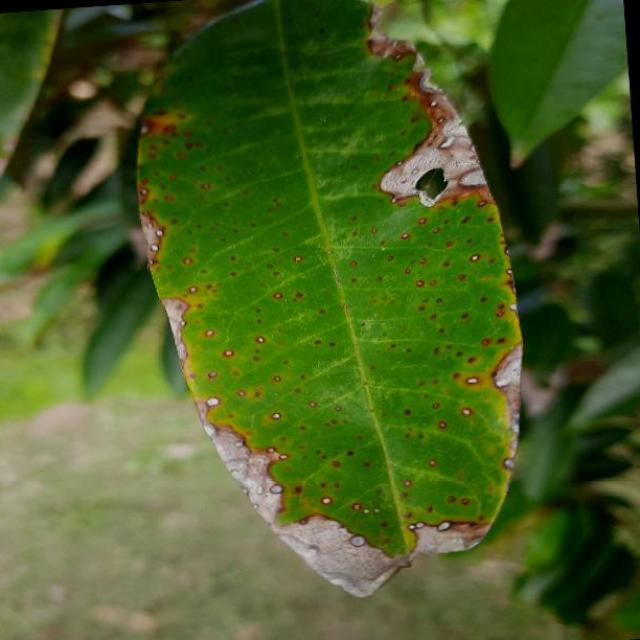Leaf Spot: (107, 0, 545, 619)
